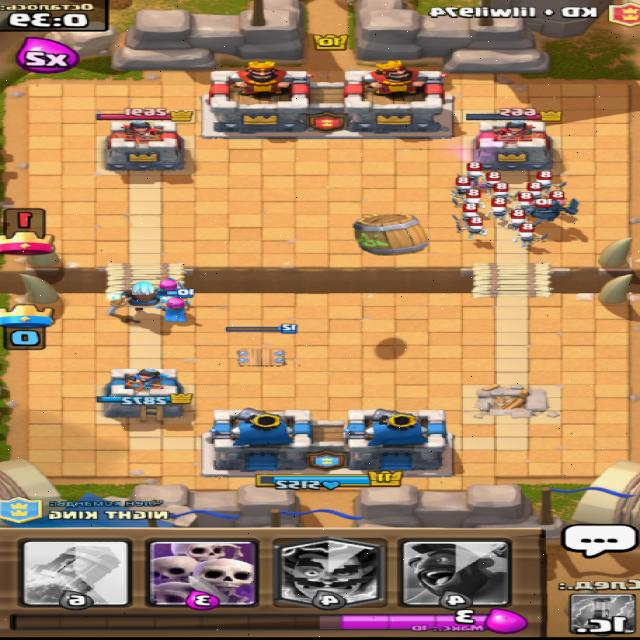Enemy-GoblinBarrel: (352, 212, 432, 256)
Enemy-MiniPEKKA: (526, 190, 581, 221)
Enemy-Skeleton: (514, 222, 552, 248), (504, 209, 547, 229), (456, 216, 491, 240), (450, 188, 490, 208), (457, 160, 490, 184), (487, 196, 517, 221), (538, 170, 571, 192), (454, 202, 484, 223), (452, 176, 476, 198), (489, 181, 515, 198), (515, 190, 538, 208), (487, 171, 507, 188), (529, 182, 547, 197)
Player-Archer: (159, 287, 199, 322), (154, 274, 190, 292)
Player-IceWizard: (109, 281, 163, 307)
Player-Tesla-Hidden: (224, 323, 300, 367)
